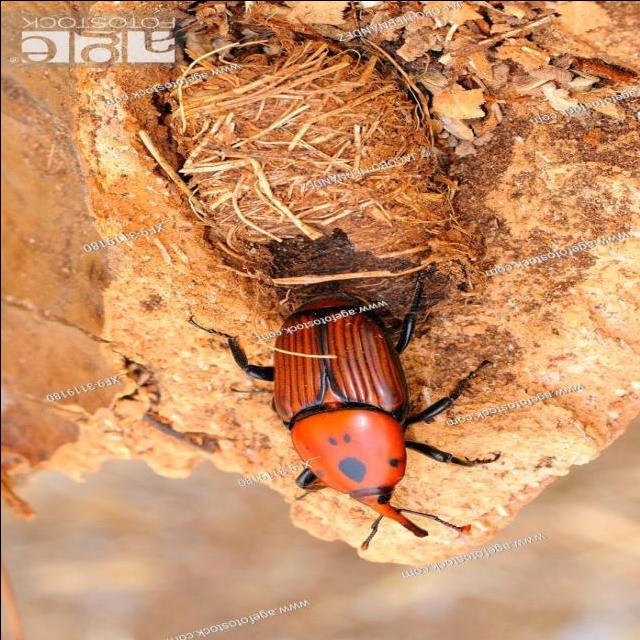Red-palm-weevil: (270, 293, 470, 549)
